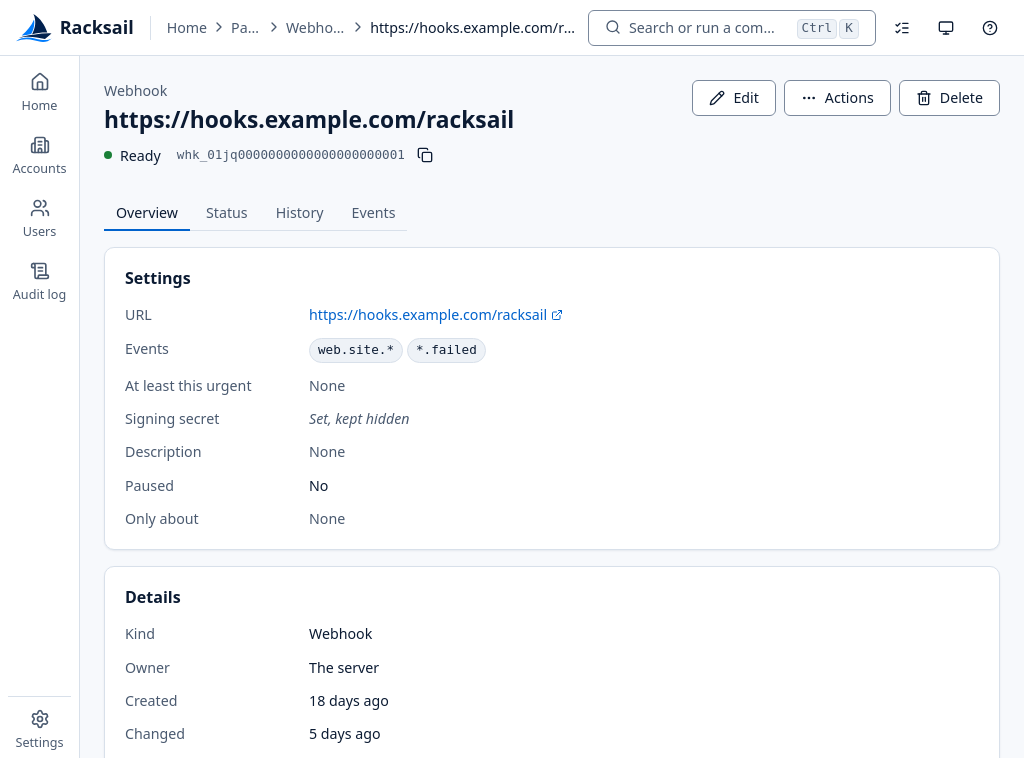
Test: the command bar › runs what the resource on screen offers
Expected: the heading "https://hooks.example.com/racksail" is shown, [104, 105, 514, 135]
Type keys "{Control>}k{/Control}"
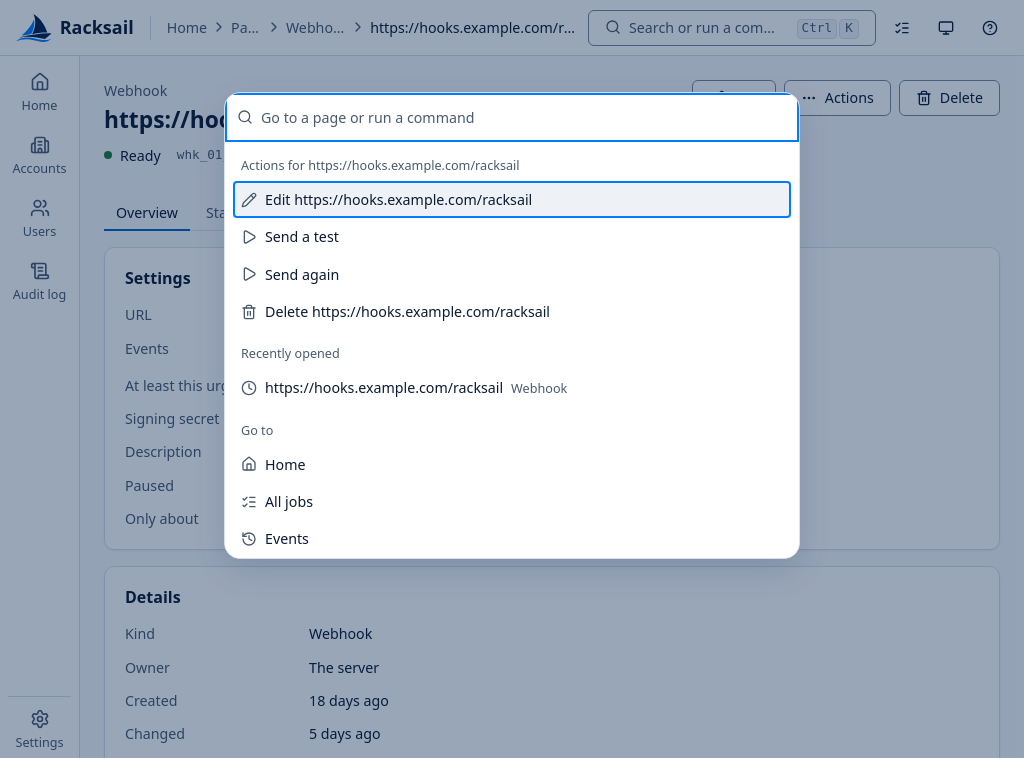
Now the option "Edit https://hooks.example.com/racksail" is shown, box [233, 181, 791, 218]
Now the option "Delete https://hooks.example.com/racksail" is shown, box [241, 302, 550, 321]
Click the option "Send a test" at coordinates (290, 237), box [241, 227, 339, 246]
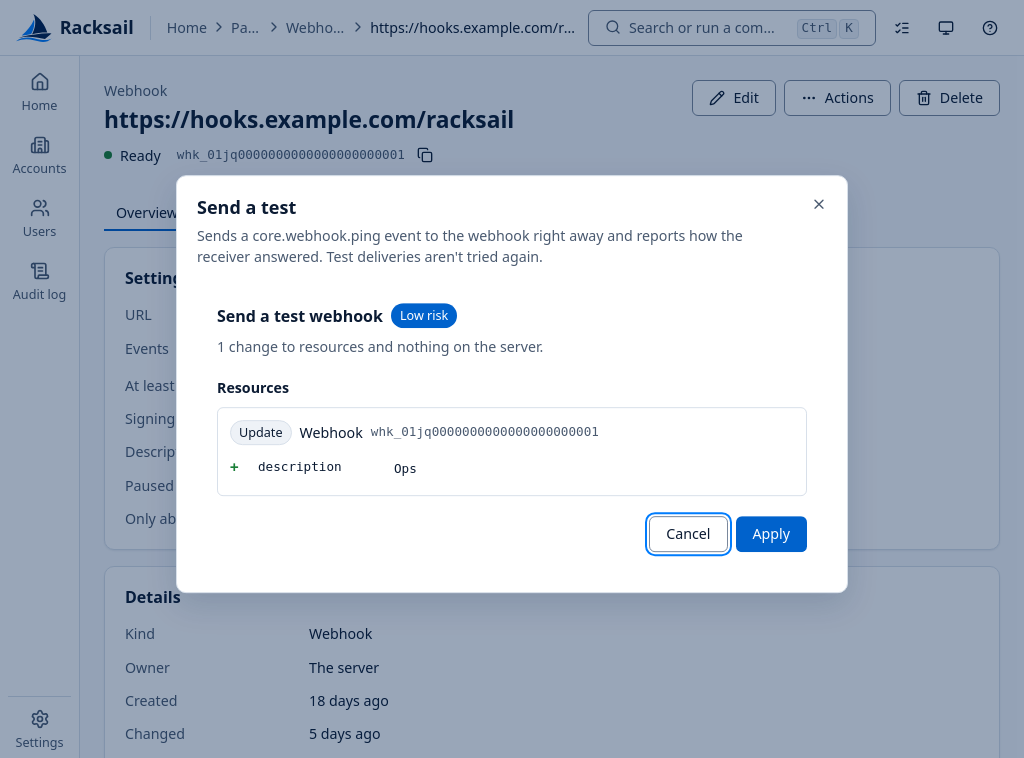
Now the dialog "Send a test" is shown, box [176, 175, 848, 593]
